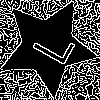L: (23, 21, 76, 68)
